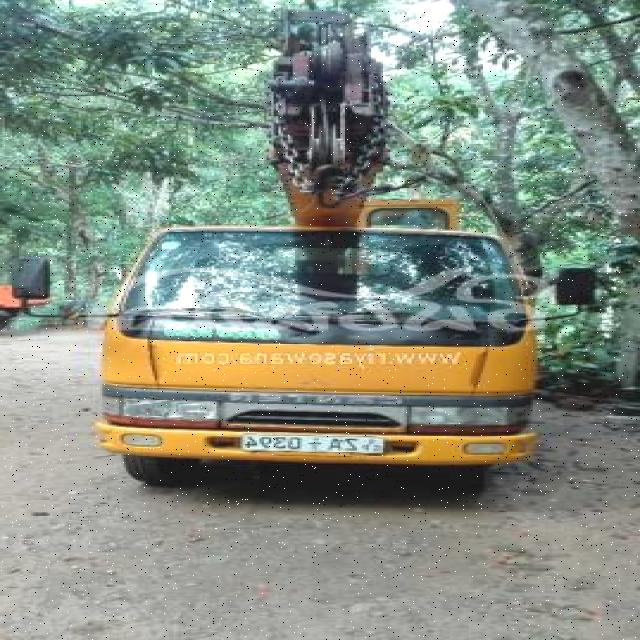truck: (19, 38, 607, 494)
